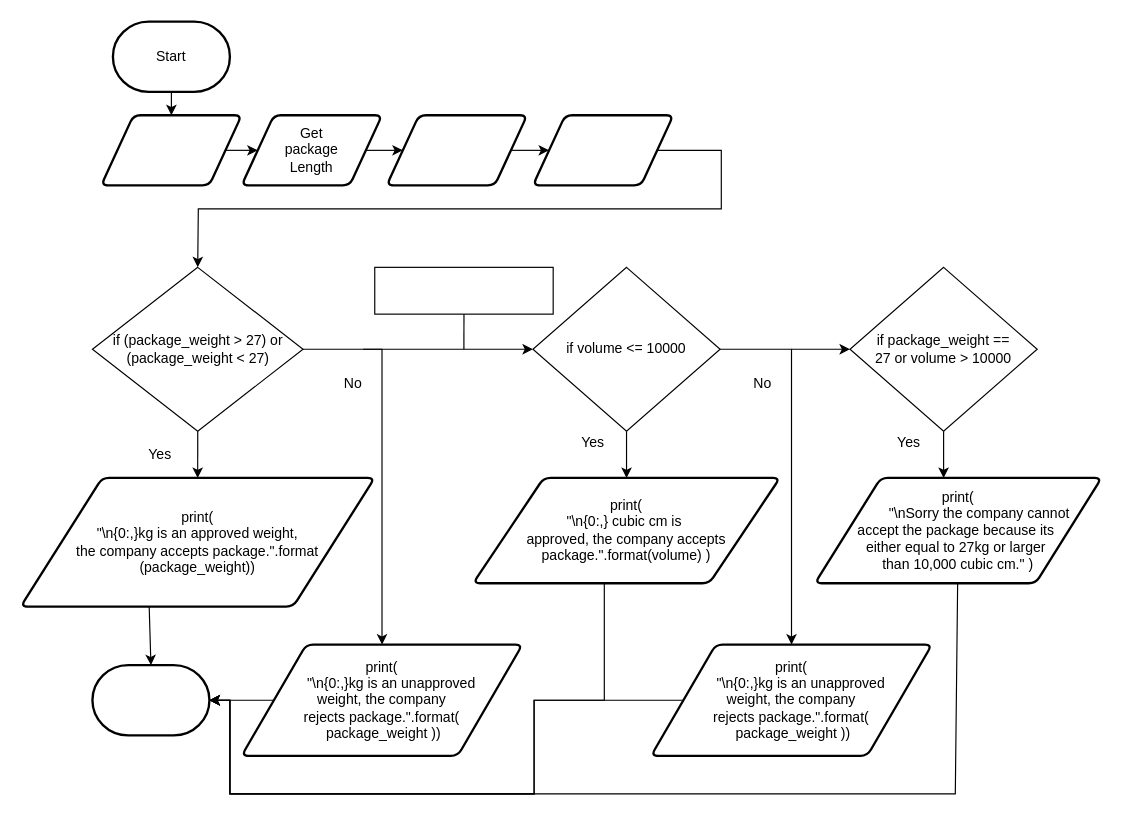
The diagram is 1123 pixels wide and 824 high, and some of its shapes have lost their labels. The box of each missing label's shape, as (x1, y1, x2, y2) in pixels:
Get package height: (531, 113, 674, 186)
Get package weight: (99, 113, 242, 186)
Get package width: (385, 113, 528, 186)
Stop: (91, 663, 210, 736)
volume = package_length * package_width * package_height: (374, 266, 553, 314)
